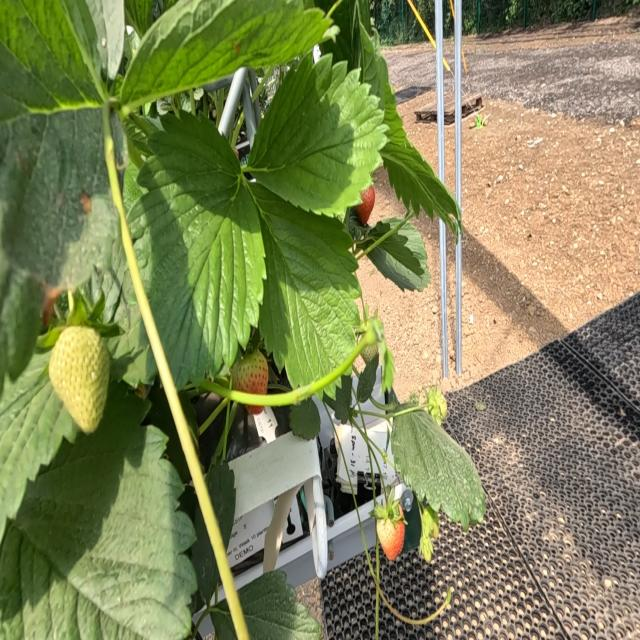Leaves: (0, 385, 197, 639), (128, 120, 264, 389), (321, 0, 459, 230), (250, 183, 360, 388), (122, 1, 331, 108), (248, 59, 386, 216), (0, 109, 118, 288), (0, 352, 78, 539), (0, 1, 103, 111), (392, 409, 486, 525), (381, 133, 458, 227), (0, 265, 45, 393), (238, 570, 320, 639), (368, 220, 430, 290), (206, 458, 236, 550), (191, 505, 219, 600), (288, 398, 320, 440), (329, 374, 352, 423), (357, 354, 379, 402)
Strawberries: (49, 327, 110, 432), (231, 350, 268, 395), (378, 519, 404, 559), (422, 389, 447, 422), (355, 187, 375, 223), (360, 343, 379, 366), (247, 405, 264, 414)
